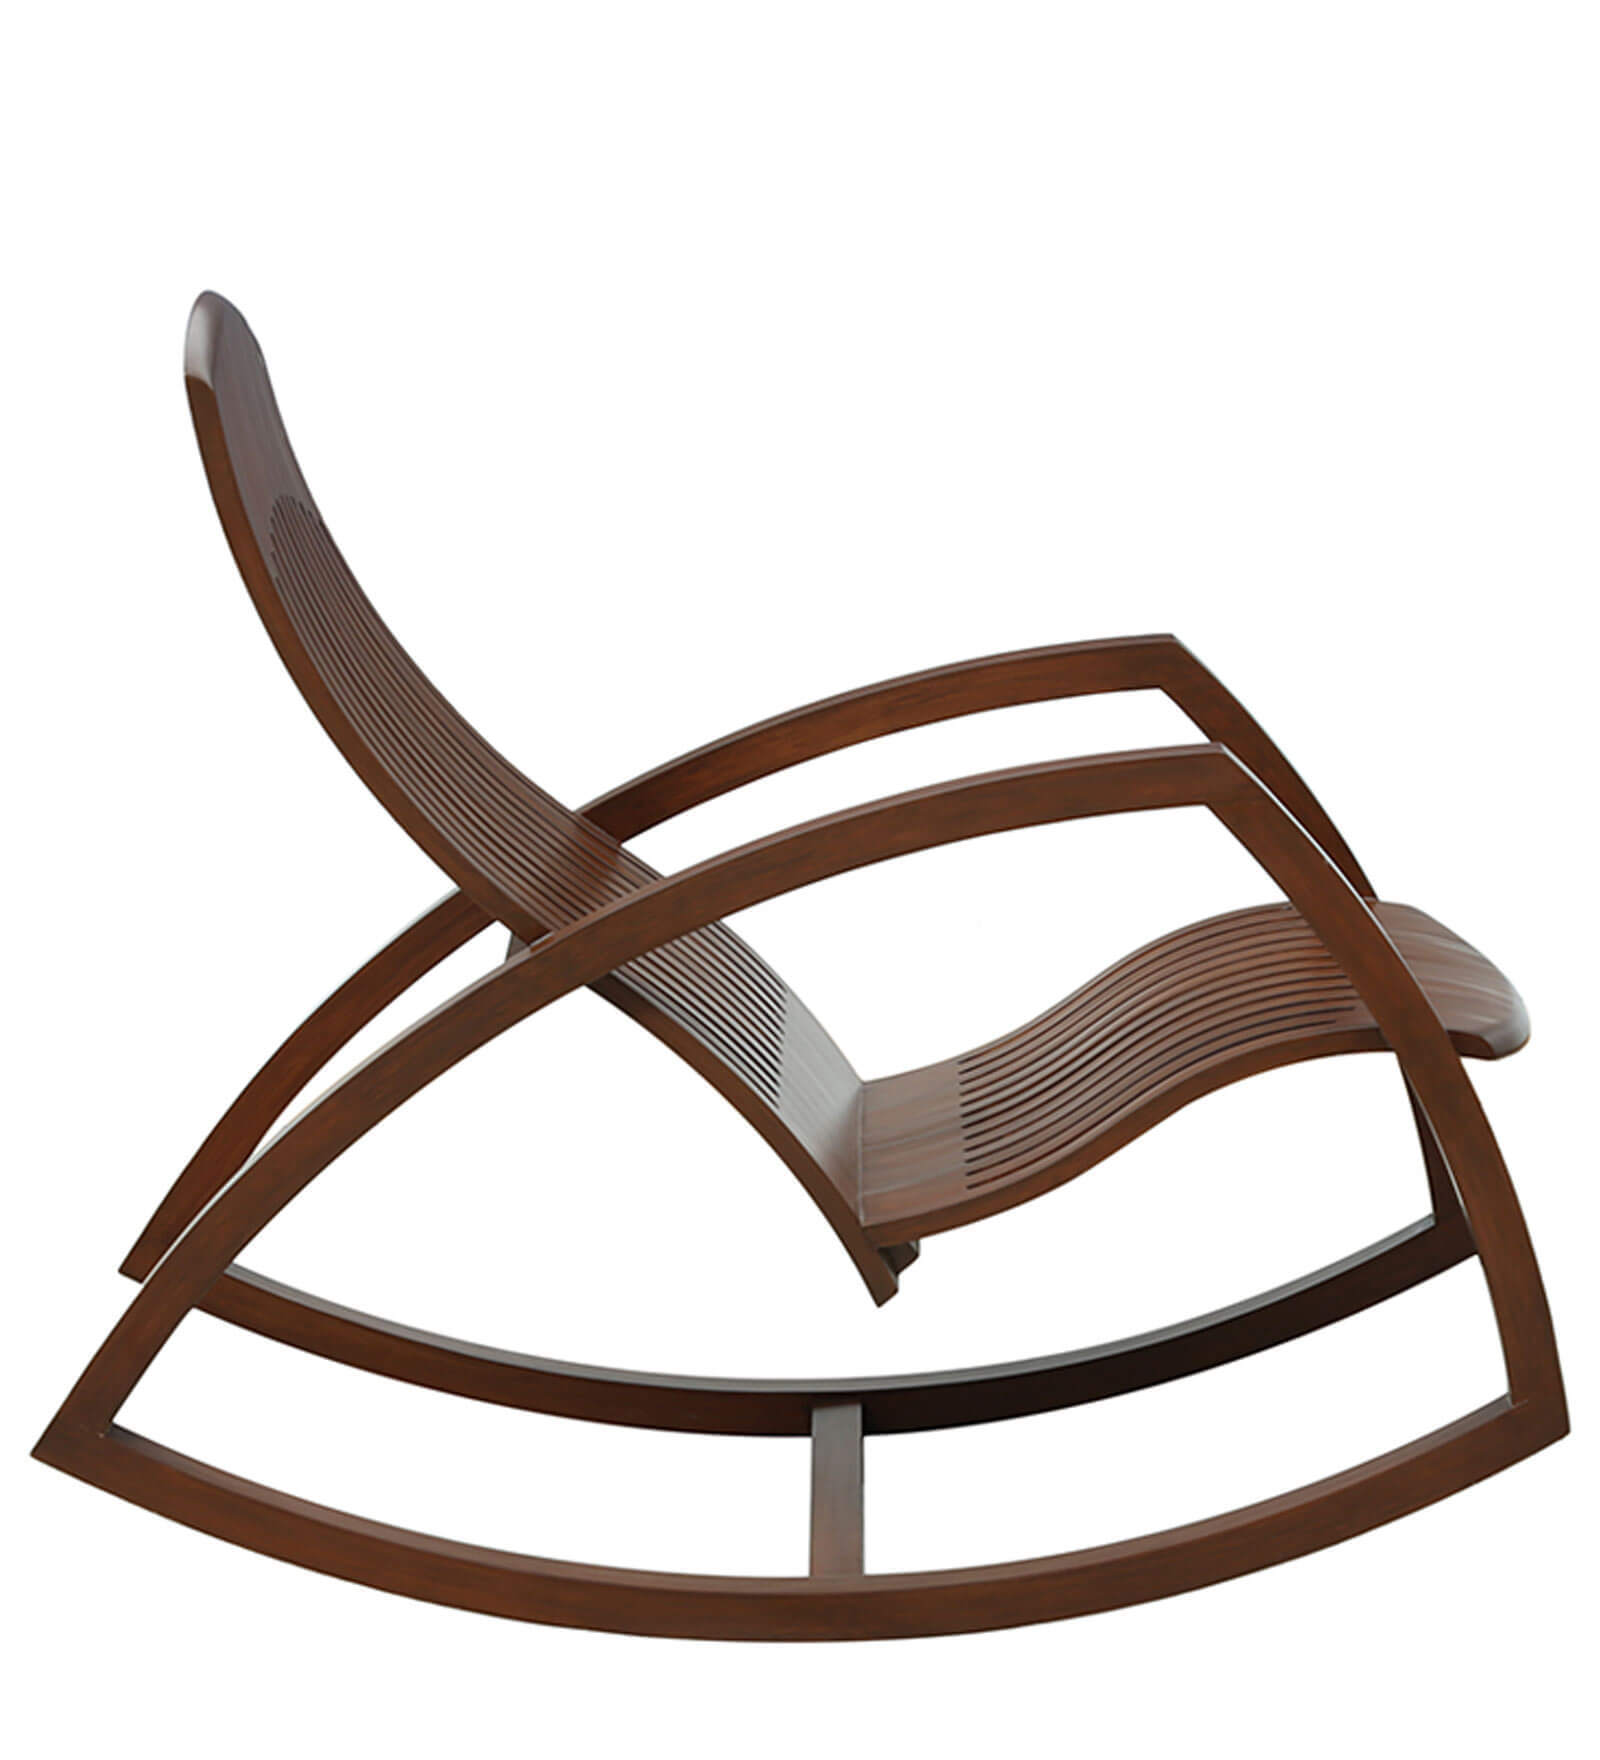Gaivota Rocking Chair in Semi-Gloss Walnut Finish by INDOORS: (14, 235, 1600, 1666)
